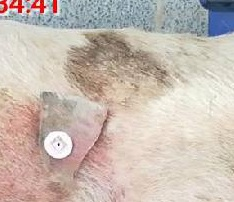text: (31, 122, 82, 166)
